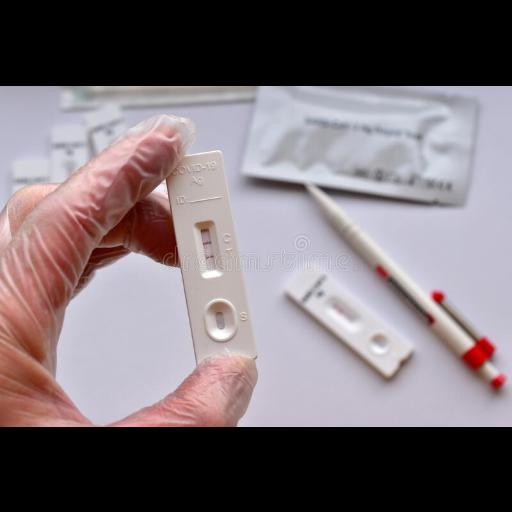Pos: (163, 149, 259, 370)
